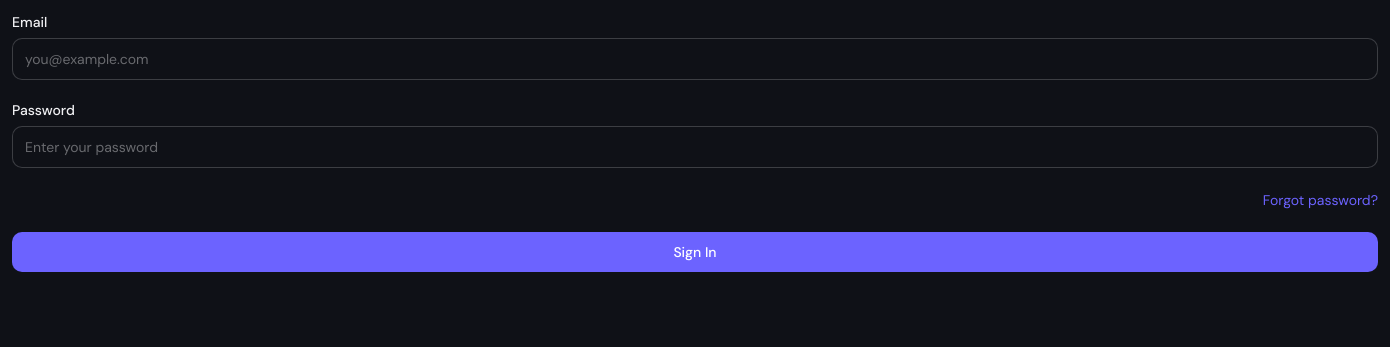
LoginForm › 10.5 rate limit error displays countdown timer
Type "test@example.com" into the field labelled "Email". click: (695, 59)
box: x1=12 y1=38 x2=1378 y2=80
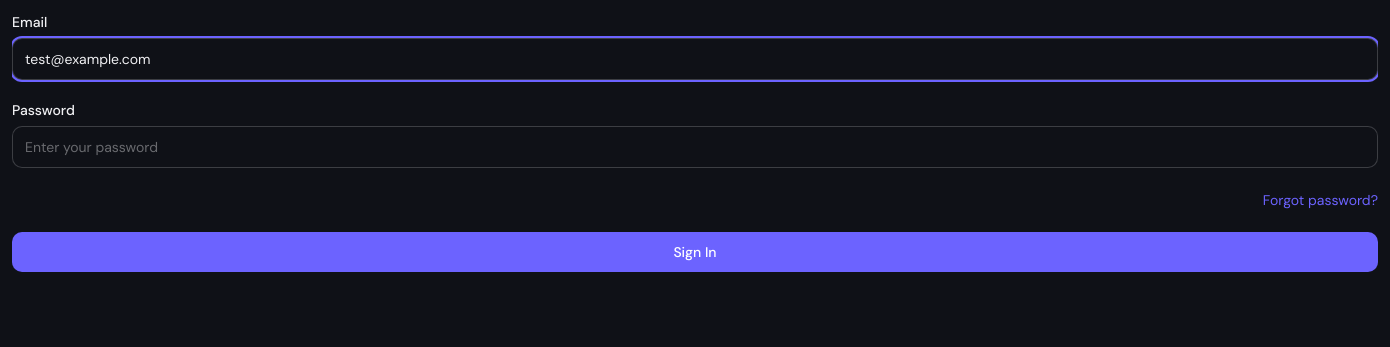
Type "WrongPass!" into the password field labelled "Password". click: (695, 147)
box: x1=12 y1=126 x2=1378 y2=168
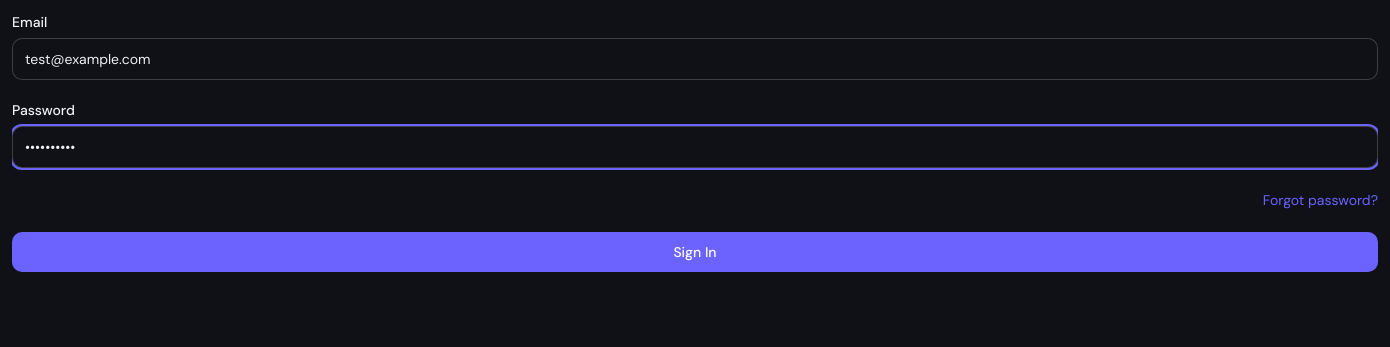
Click the button "Sign In". click: (695, 252)
box: x1=12 y1=232 x2=1378 y2=272
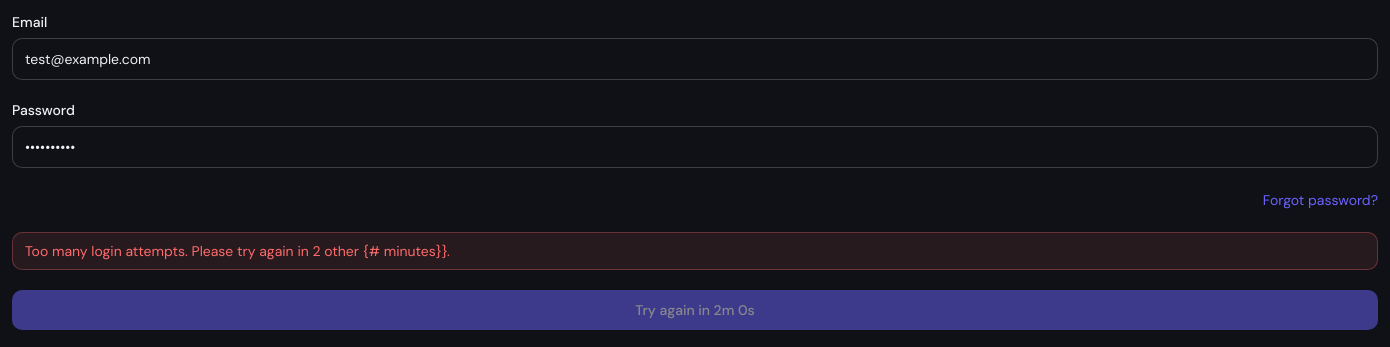
Result: the text "Too many login attempts. Please try again in 2 other {# minutes}}." is shown at x1=12 y1=232 x2=1378 y2=270
Result: the button is disabled at x1=12 y1=290 x2=1378 y2=330
